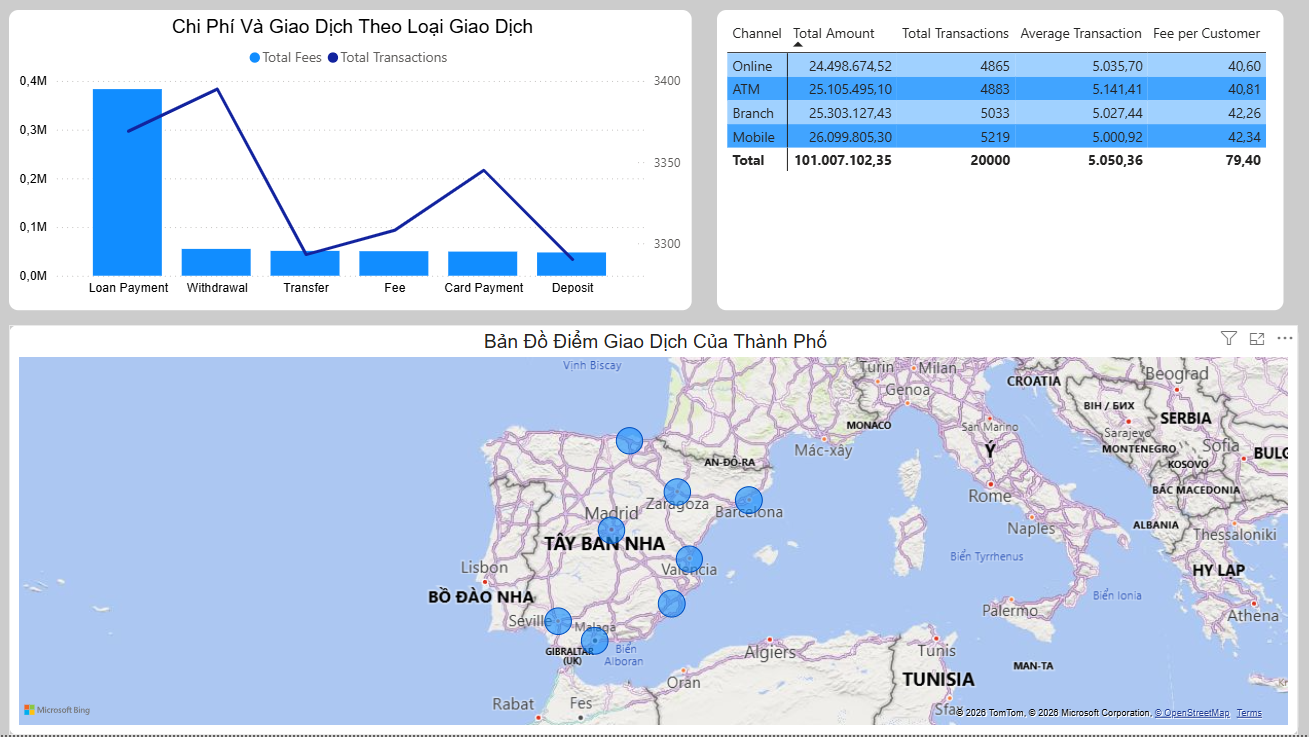

Layout of this report page (visuals, bound fields, positions):
{"tool":"powerbi","page":{"name":"Page 2","canvas":[1280,720],"ordinal":1},"visuals":[{"type":"lineStackedColumnComboChart","title":"Chi Phí Và Giao Dịch Theo Loại Giao Dịch","fields":{"Category":["Banking Data.TransactionType"],"Y":["Banking Data.Total Fees"],"Y2":["Banking Data.Total Transactions"]},"box":[12.6,14.6,664.3,291.8],"z":0},{"type":"map","title":"Bản Đồ Điểm Giao Dịch Của Thành Phố","fields":{"Category":["Banking Data.BranchCity"],"Y":["Avg(Banking Data.BranchLat)"],"X":["Avg(Banking Data.BranchLong)"],"Size":["Banking Data.Total Transactions"]},"box":[12.6,321,1253.7,398.8],"z":1000},{"type":"pivotTable","fields":{"Rows":["Banking Data.Channel"],"Values":["Banking Data.Total Amount","Banking Data.Total Transactions","Banking Data.Average Transaction","Banking Data.Fee per Customer"]},"box":[701.3,14.6,551.5,291.8],"z":2000}]}

Visuals, with their boxes in screenshot pixels (x1, y1, x2, y2), scaled from the page's 1280x720 canvas onto the 1309x737 screenshot:
"Chi Phí Và Giao Dịch Theo Loại Giao Dịch" lineStackedColumnComboChart: 13,15,692,314
"Bản Đồ Điểm Giao Dịch Của Thành Phố" map: 13,329,1295,736
pivotTable - Banking Data.Channel x Banking Data.Total Amount: 717,15,1281,314
